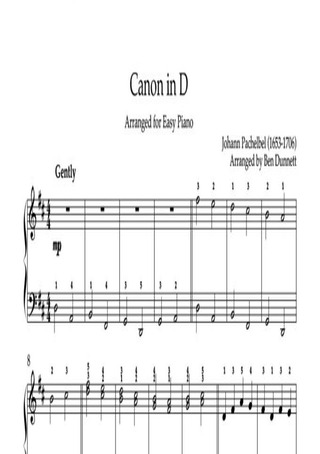Partitura: (15, 58, 307, 454)
